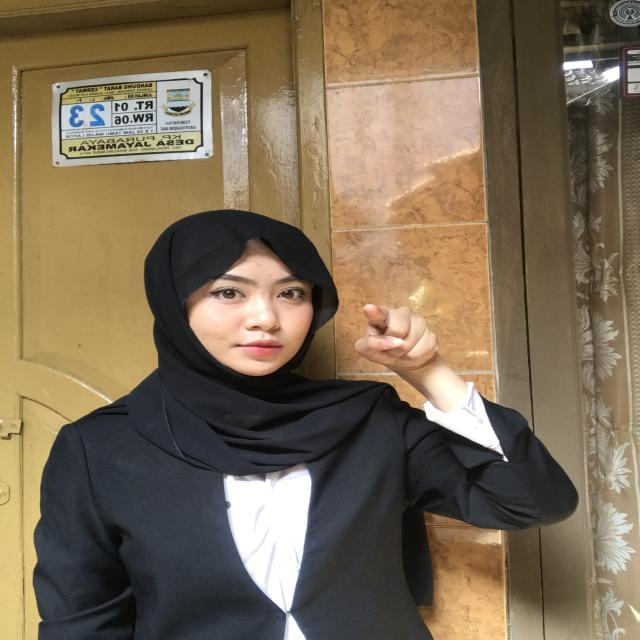kamu: (339, 292, 480, 398)
